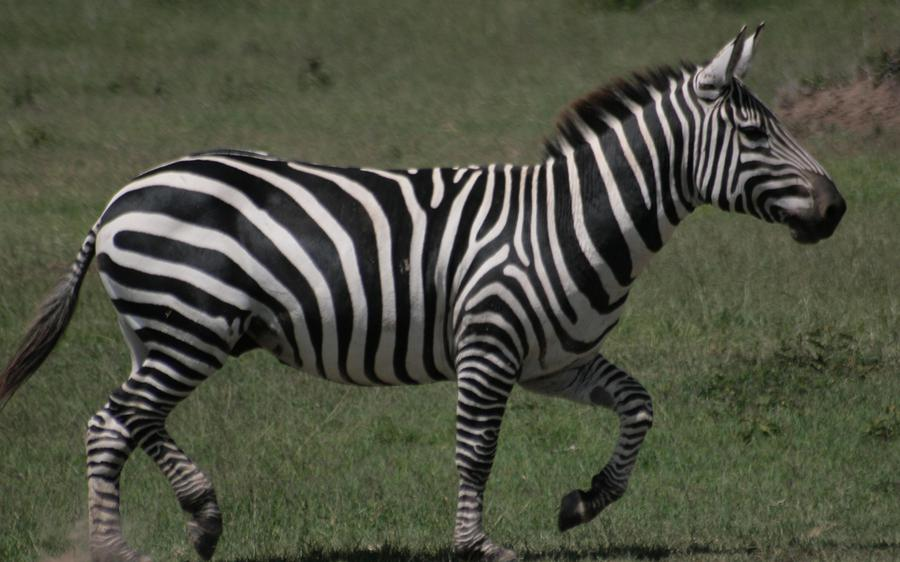zebra_plains: (125, 149, 570, 394)
